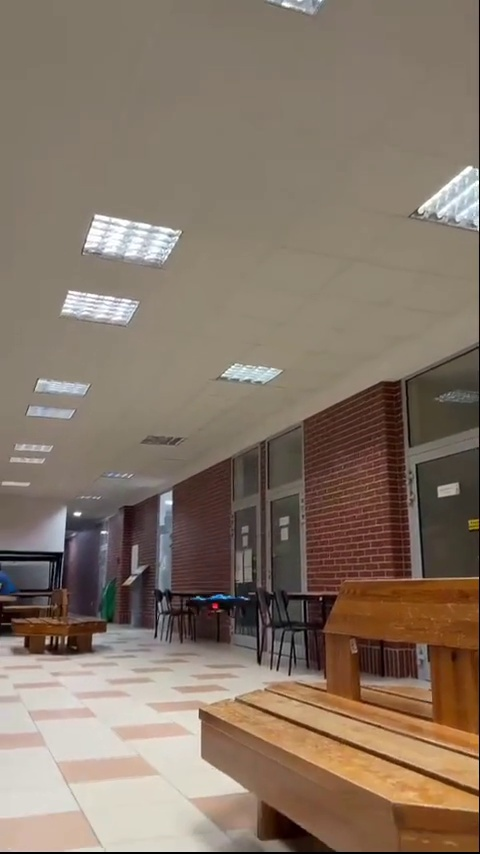drone: (188, 592, 255, 625)
